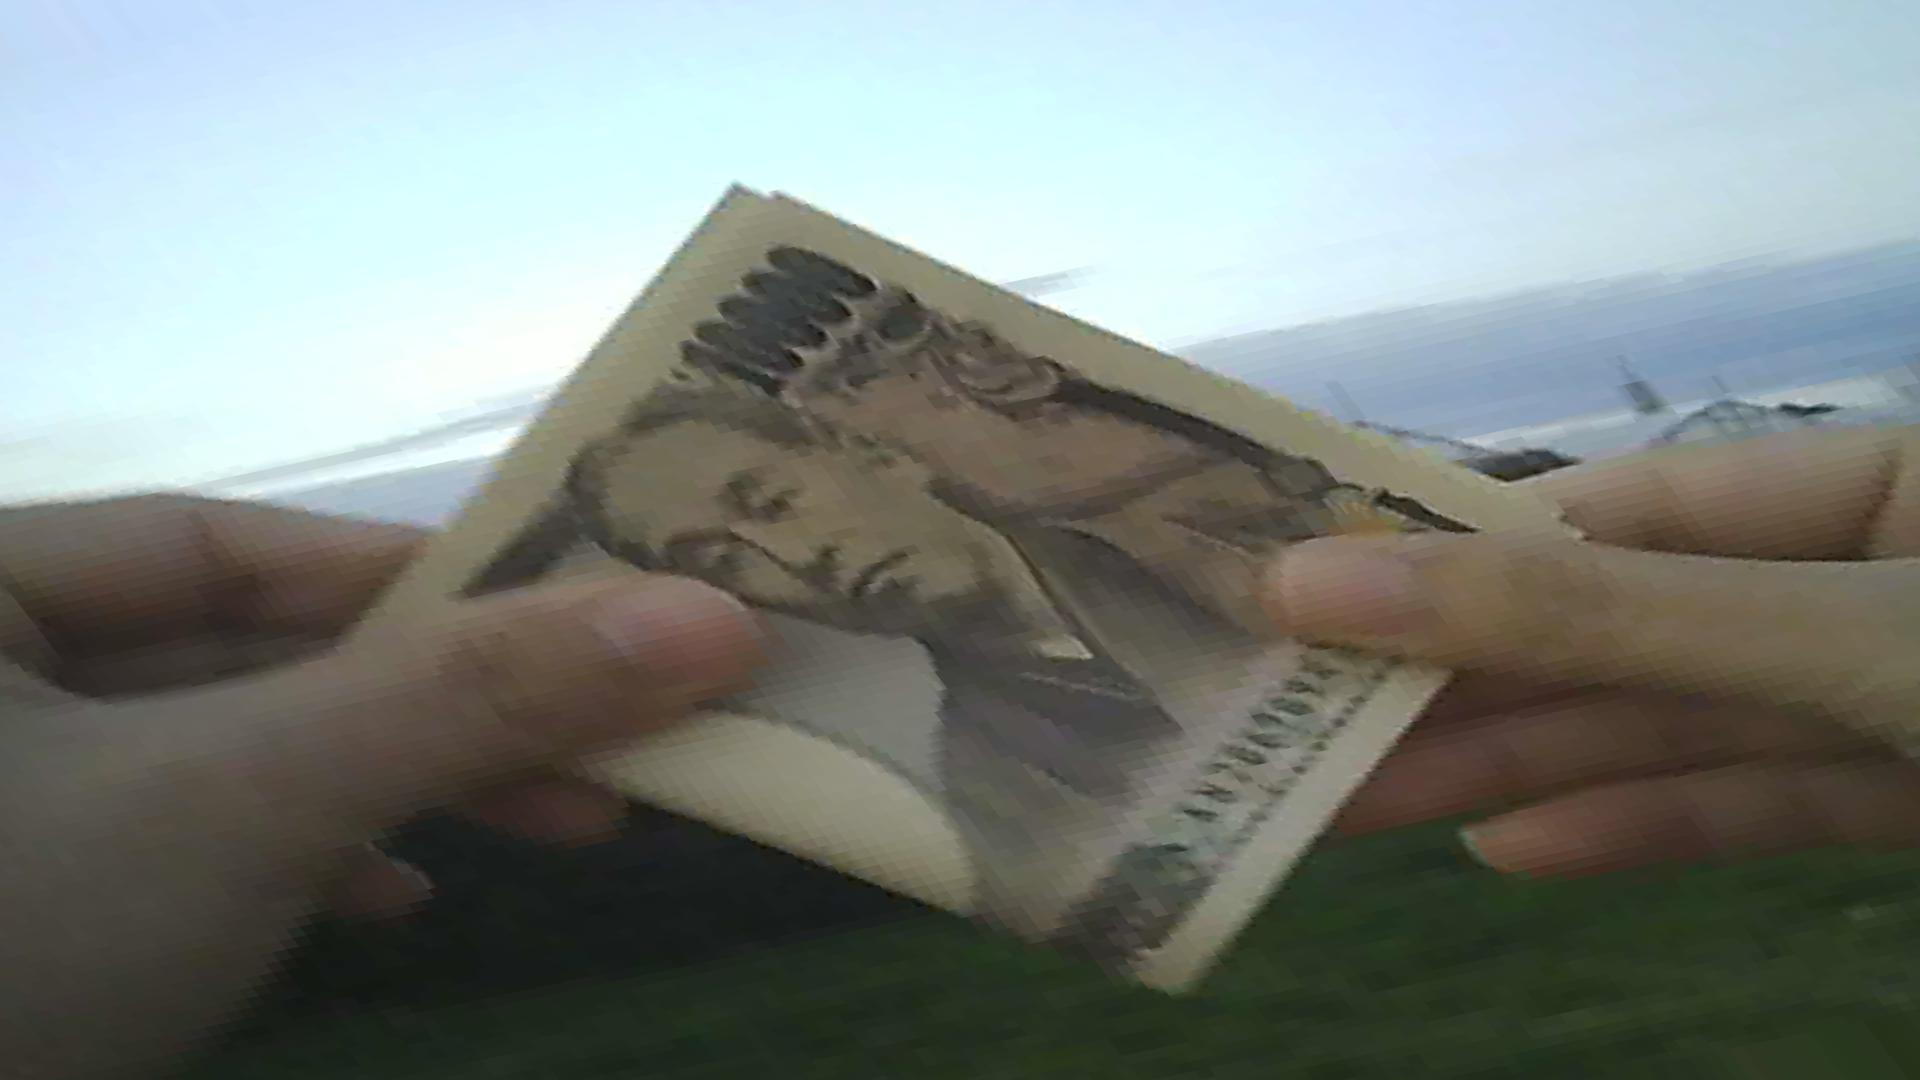10,000 Yen: (375, 166, 1549, 1014)
